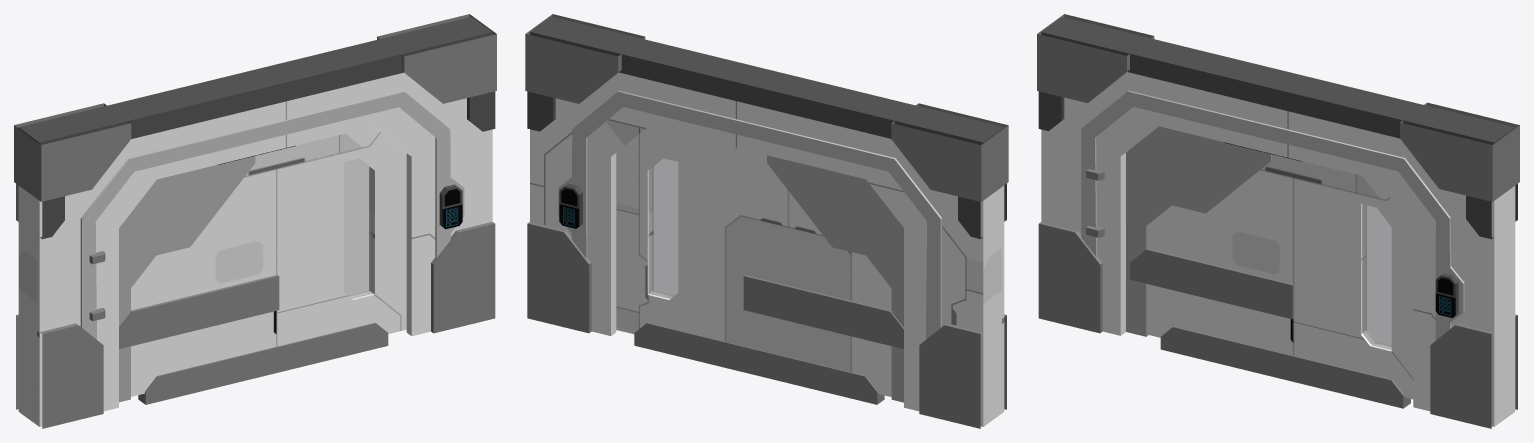
The model's file is SM_Wall_5x3_Door_1.fbx.
3 views of the same model, side by side, from view 1: azimuth 30°, elevation 25°; view 2: azimuth 150°, elevation 25°; view 3: azimuth 330°, elevation 25° (orthographic).
Visible parts, largest first — view 1: SM_Wall_5x3_Door_1, SM_Wall_5x3_Door; view 2: SM_Wall_5x3_Door_1, SM_Wall_5x3_Door; view 3: SM_Wall_5x3_Door_1, SM_Wall_5x3_Door.
Boxes of the visible parts, box(x1,y1,x2,y2) form: SM_Wall_5x3_Door_1: box(14, 14, 496, 428); SM_Wall_5x3_Door: box(119, 126, 406, 404); SM_Wall_5x3_Door_1: box(525, 14, 1008, 428); SM_Wall_5x3_Door: box(616, 126, 903, 404); SM_Wall_5x3_Door_1: box(1037, 14, 1519, 428); SM_Wall_5x3_Door: box(1126, 126, 1413, 408).
Bounding box in the file's own units: 503 × 311 × 58.18.
